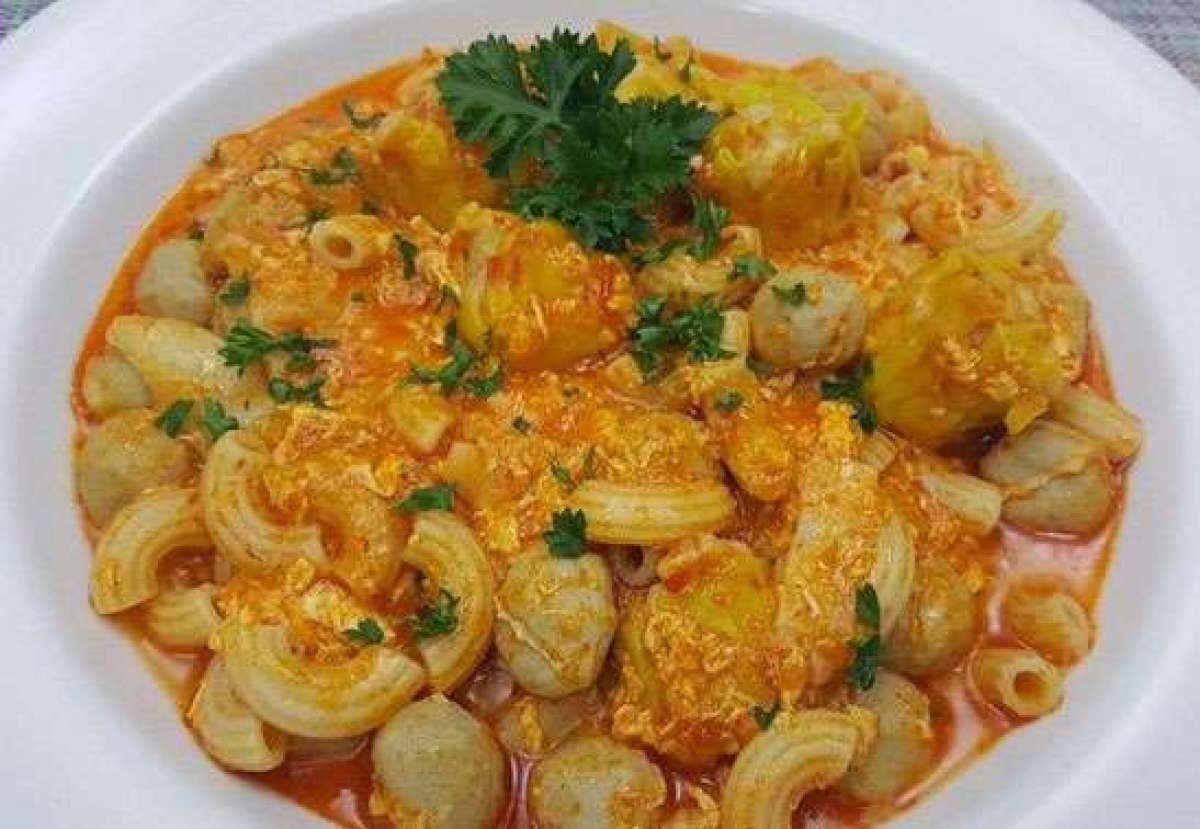seblak: (77, 24, 1147, 829)
